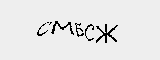Б: (73, 20, 83, 40)
Ж: (92, 21, 117, 45)
М: (51, 17, 74, 38)
С: (34, 16, 51, 38), (84, 22, 96, 43)
